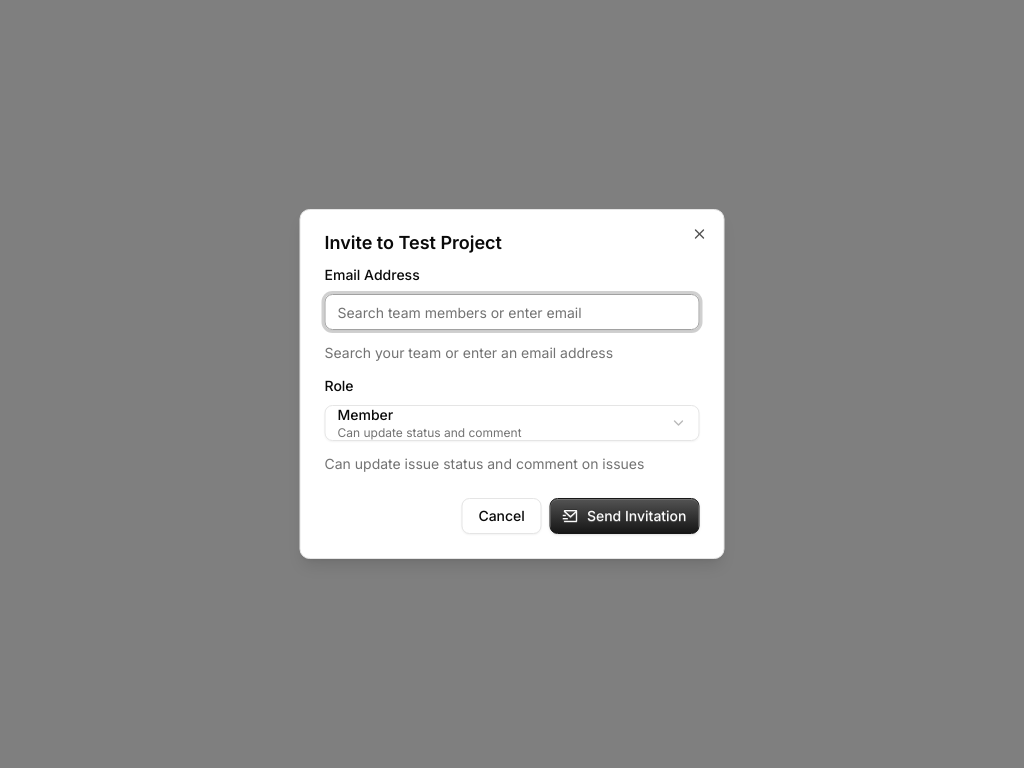
Scenario: ProjectInvitationDialog › Form submission › should display error message on failure
The width and height of the screenshot is (1024, 768).
Type "test@example.com" into the field labelled "Email Address" at (512,312), box [324,294,700,330]
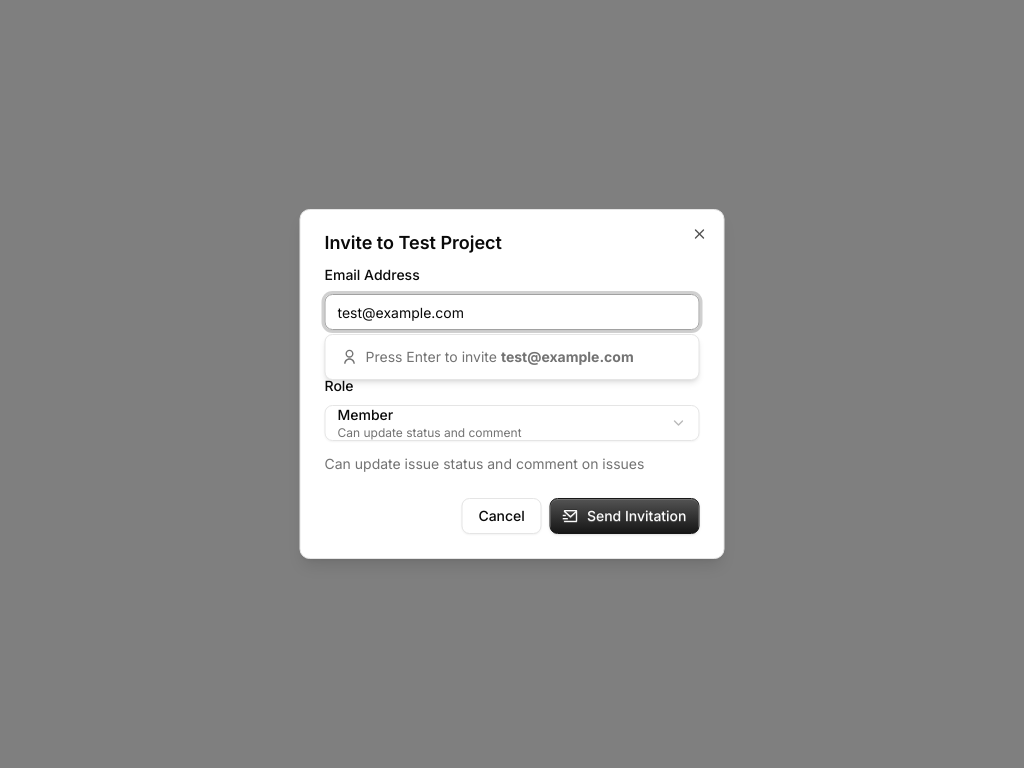
Click the button "Send Invitation" at (625,516), box [550,498,700,534]
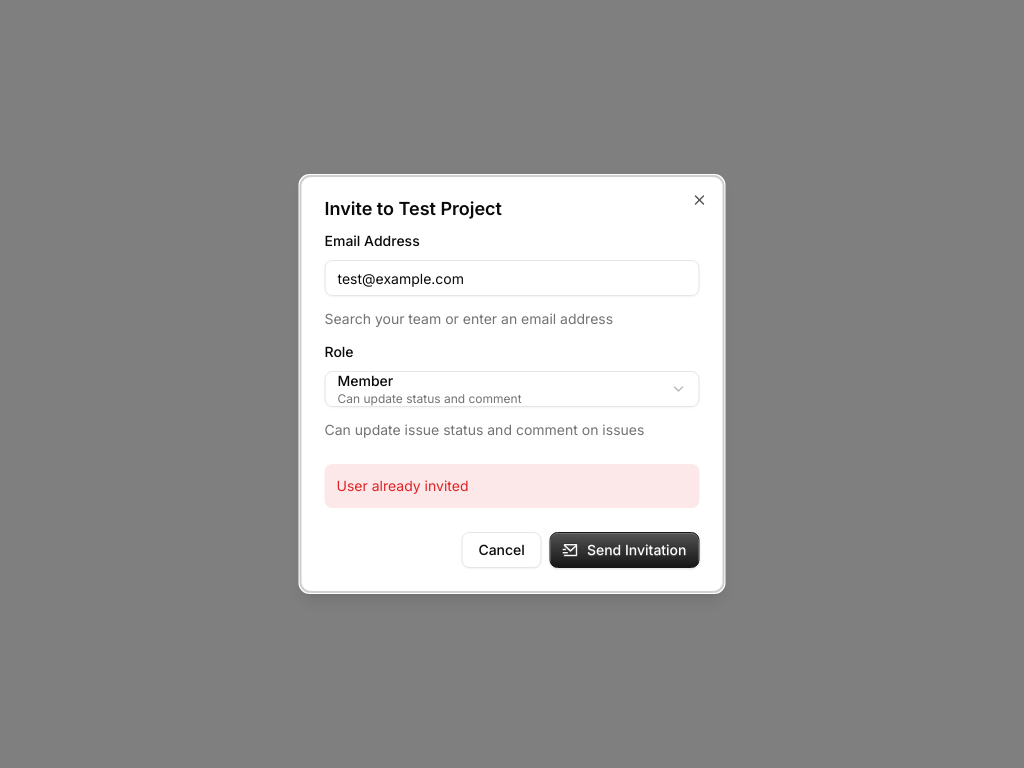
Result: the text "User already invited" is shown at [324,464,700,508]
